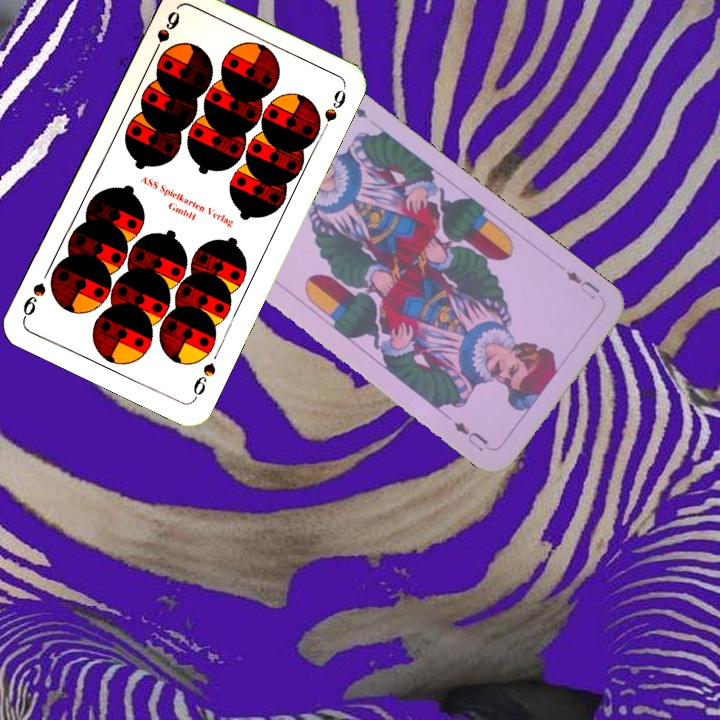EU: (561, 267, 603, 303)
S9: (147, 6, 183, 61), (189, 358, 218, 403)
